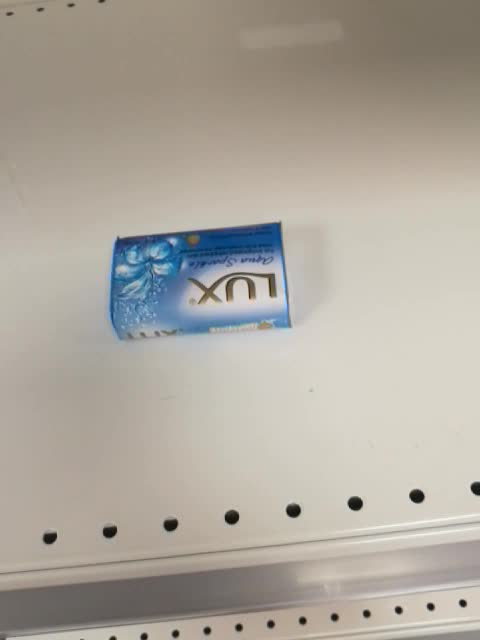soap: (108, 218, 295, 343)
